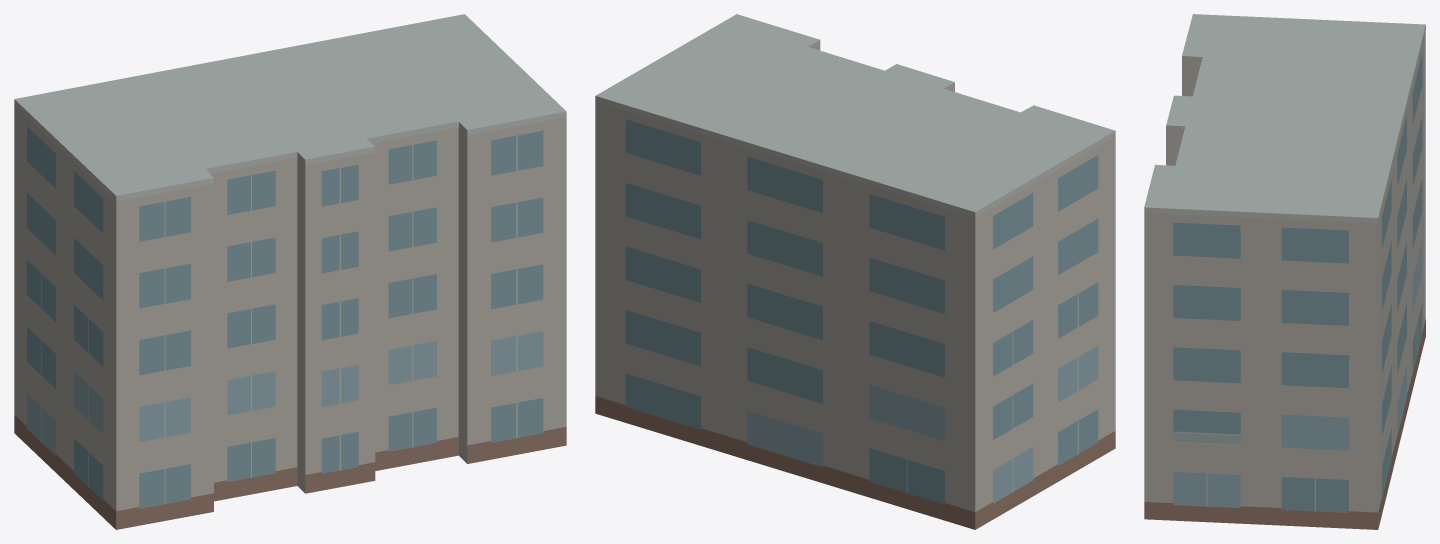
The model's file is survey-upis-32932831.glb.
The picture shows the model from 3 angles, left to right: view 1: azimuth 30°, elevation 25°; view 2: azimuth 150°, elevation 25°; view 3: azimuth 270°, elevation 25°; orthographic projection. The views are drawn at different scales.
Parts seen in each view (by area): view 1: survey-upis-32932831.tmp; view 2: survey-upis-32932831.tmp; view 3: survey-upis-32932831.tmp.
Boxes of the visible parts, x1=… form: survey-upis-32932831.tmp: x1=14, y1=14, x2=566, y2=529; survey-upis-32932831.tmp: x1=595, y1=14, x2=1115, y2=529; survey-upis-32932831.tmp: x1=1144, y1=14, x2=1425, y2=529.
Size of the model in its own units: 19.65 by 14 by 11.47.
